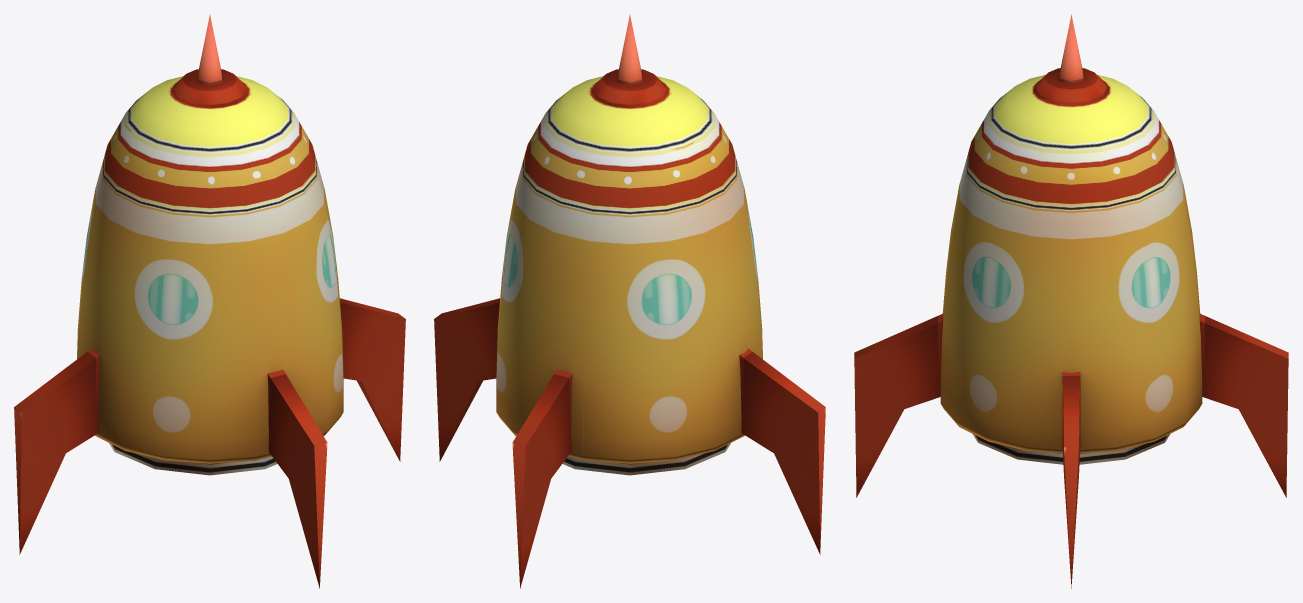
3 views of the same model, side by side, from view 1: azimuth 30°, elevation 25°; view 2: azimuth 150°, elevation 25°; view 3: azimuth 270°, elevation 25° (orthographic). The views are drawn at different scales.
Visible parts, largest first — view 1: S004; view 2: S004; view 3: S004.
Boxes of the visible parts, x1,y1,x2,y2 form: S004: (14,15,405,588); S004: (434,15,825,588); S004: (854,14,1288,588).
Size of the model in its own units: 38.84 by 47.78 by 38.84.
Materials: 1 (1 with a texture image).
